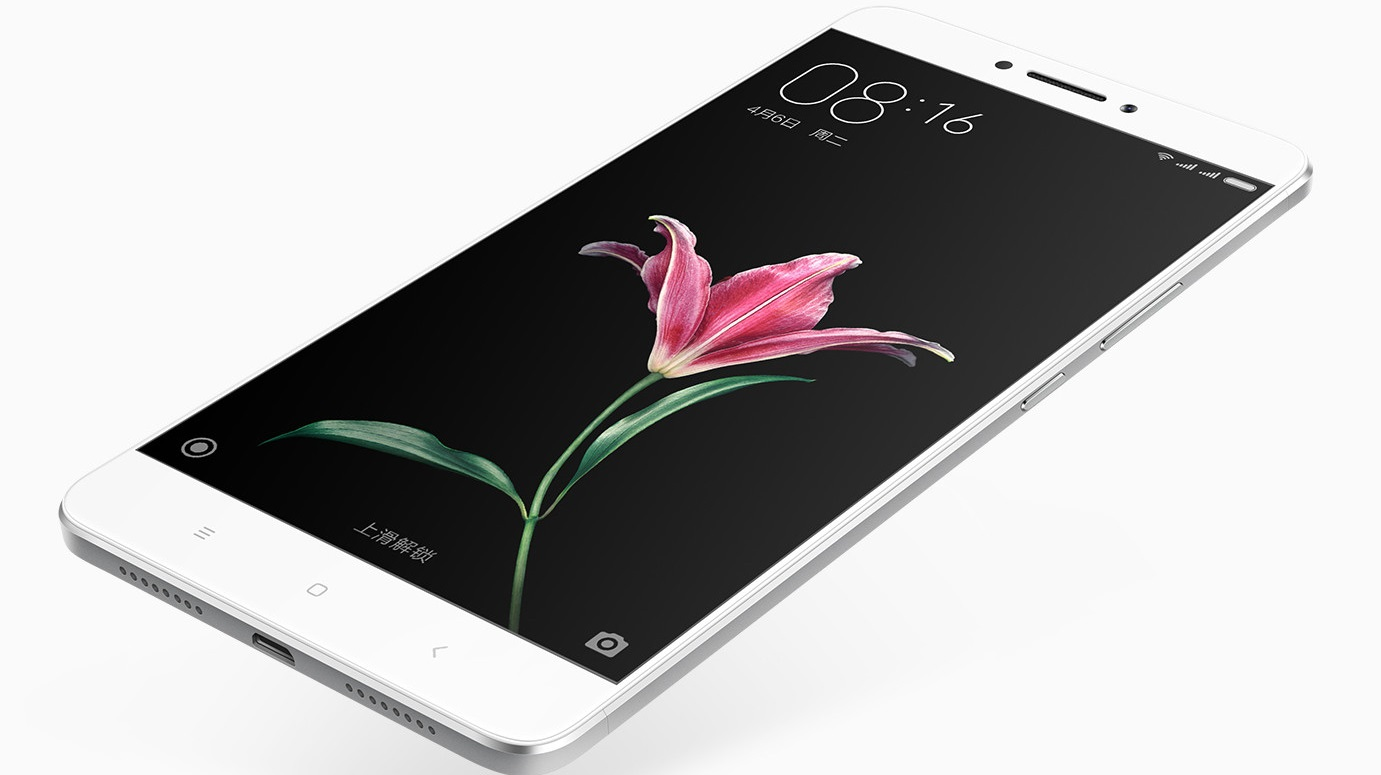smartphone: (57, 6, 1313, 775)
